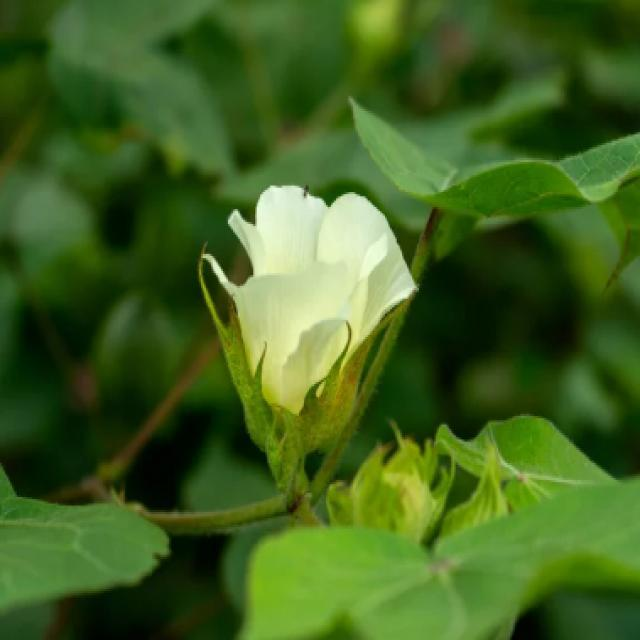Cotton Blossom: (199, 179, 421, 471)
Cotton Bud: (338, 423, 454, 559)
